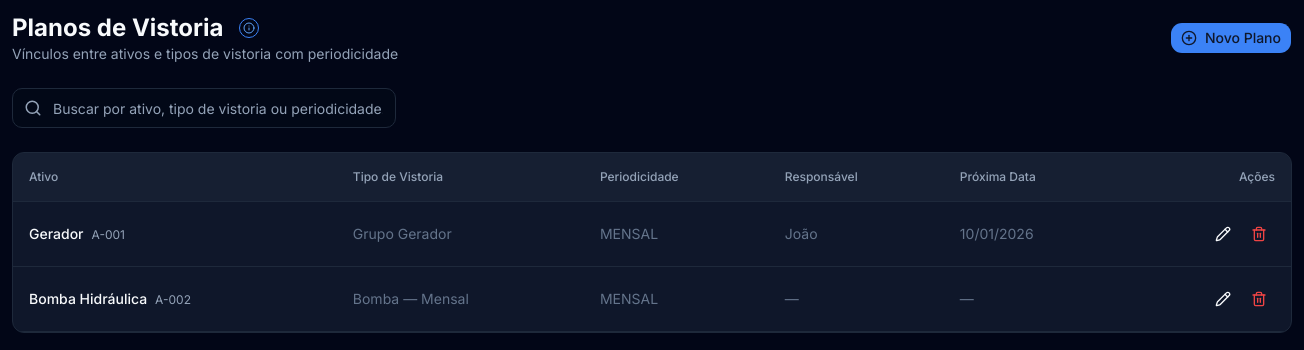
Test: AtivosPlanosPage › filtra pela busca
Check: the link "Gerador" is shown, box 29,225 -> 84,242
Type "Gerador" into the field with placeholder "Buscar por ativo, tipo de vistoria ou periodicidade..." at (204, 108), box 12,88 -> 396,128
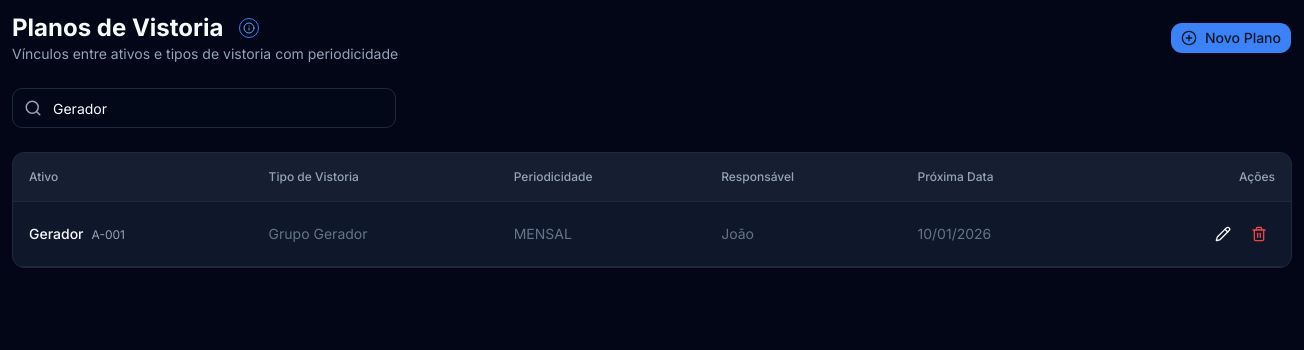
Check: the link "Gerador" is shown, box 29,225 -> 84,242
Check: the link "Bomba Hidráulica" is gone
Replace the text in the field with placeholder "Buscar por ativo, tipo de vistoria ou periodicidade..." with "zzz-inexistente" at (204, 108), box 12,88 -> 396,128
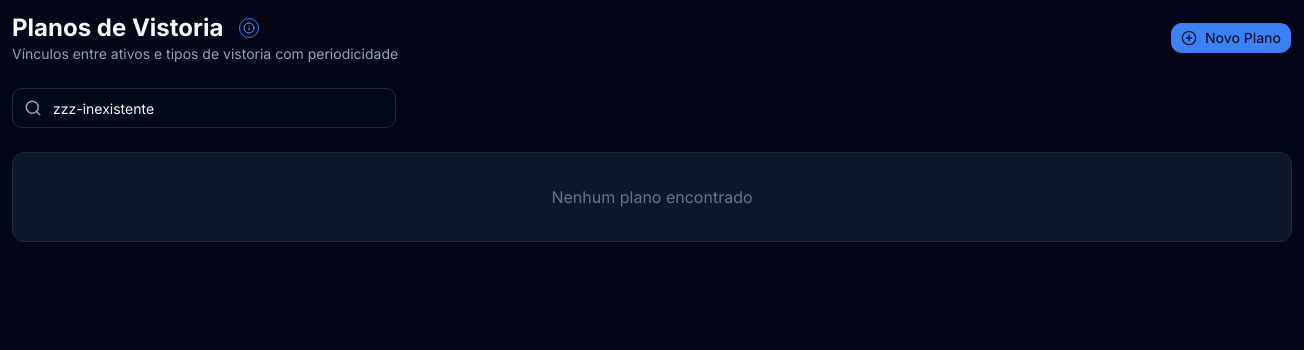
Check: the text "Nenhum plano encontrado" is shown, box 552,187 -> 753,207
